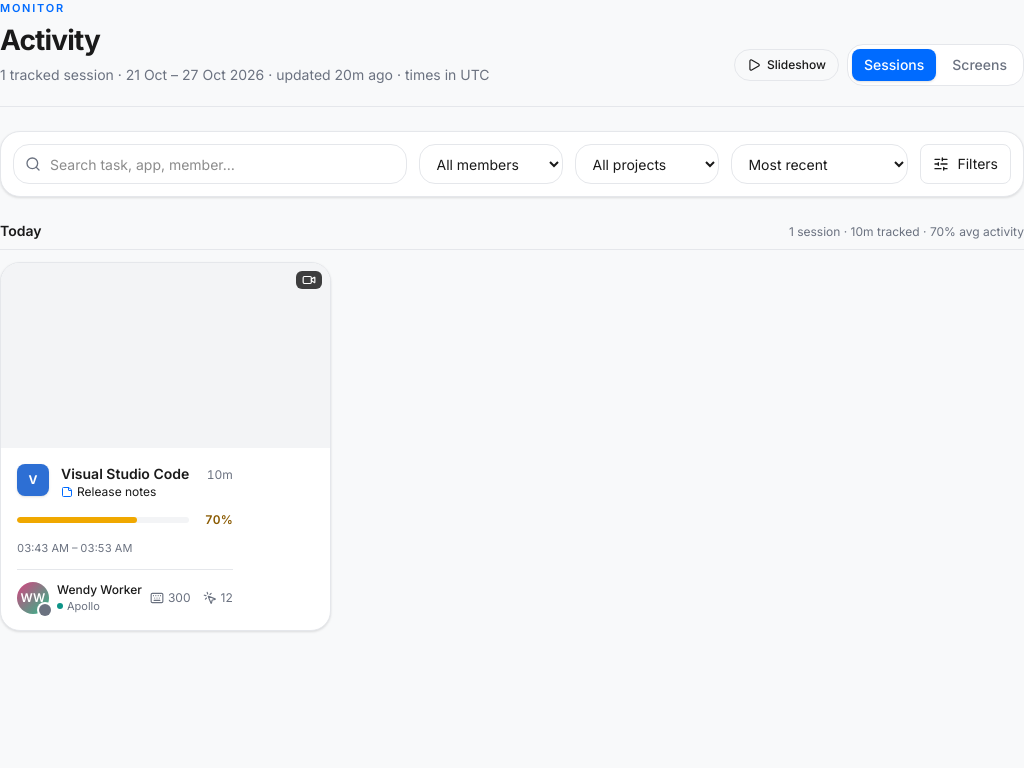
Test case: owners and managers (Tracker.Activities.Delete) › delete a block with its captures, giving the reason the record keeps
Click the button with aria-label "Open session: Wendy Worker, Release notes, 03:43 AM – 03:53": (33, 480) [1,448,330,630]
(page scrolled)
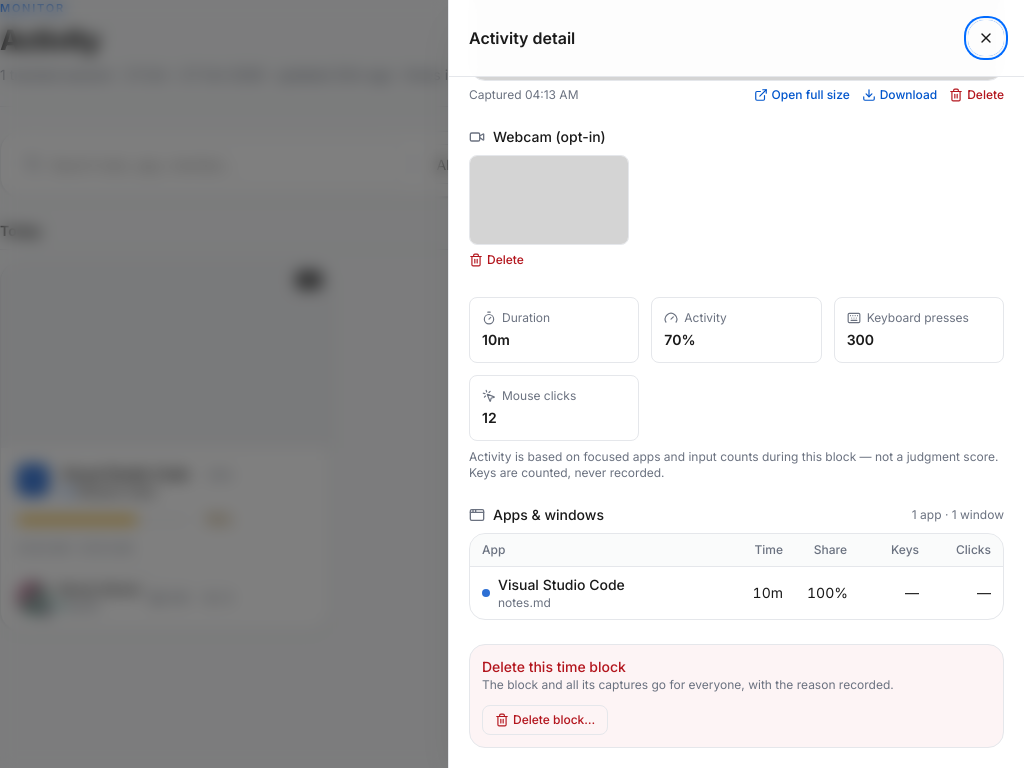
Click the button "Delete block…": (545, 720) [482,705,608,735]
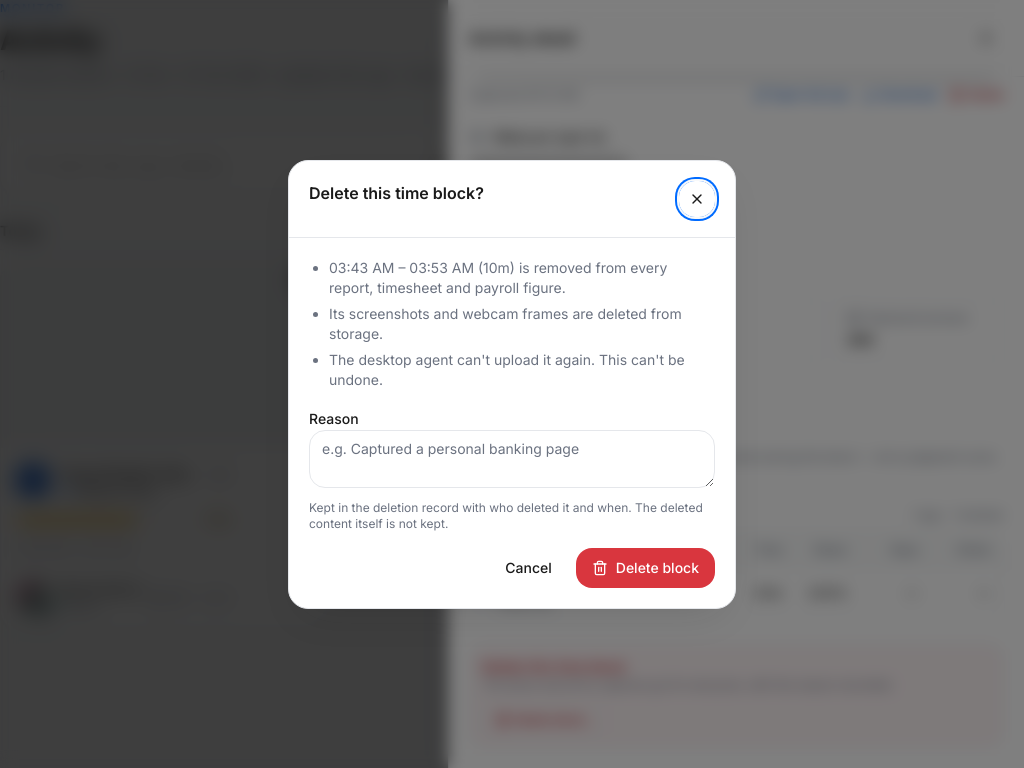
Expected: the dialog "Delete this time block?" shows "removed from every report, timesheet and payroll figure", [329,258,667,296]
Click the button "Delete block": (645, 568) [576,548,715,588]
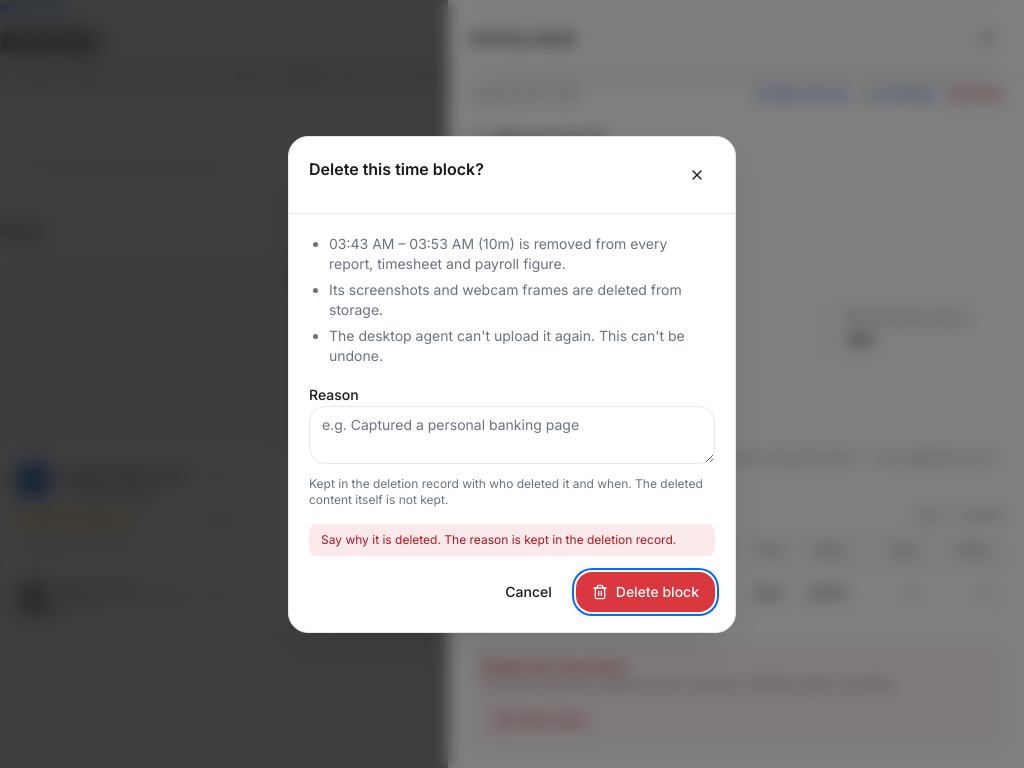
Expected: the message shows "Say why it is deleted", [321,532,676,546]
In the text box labelled "Reason": (512, 434) [309,406,715,464], type "Personal banking page"
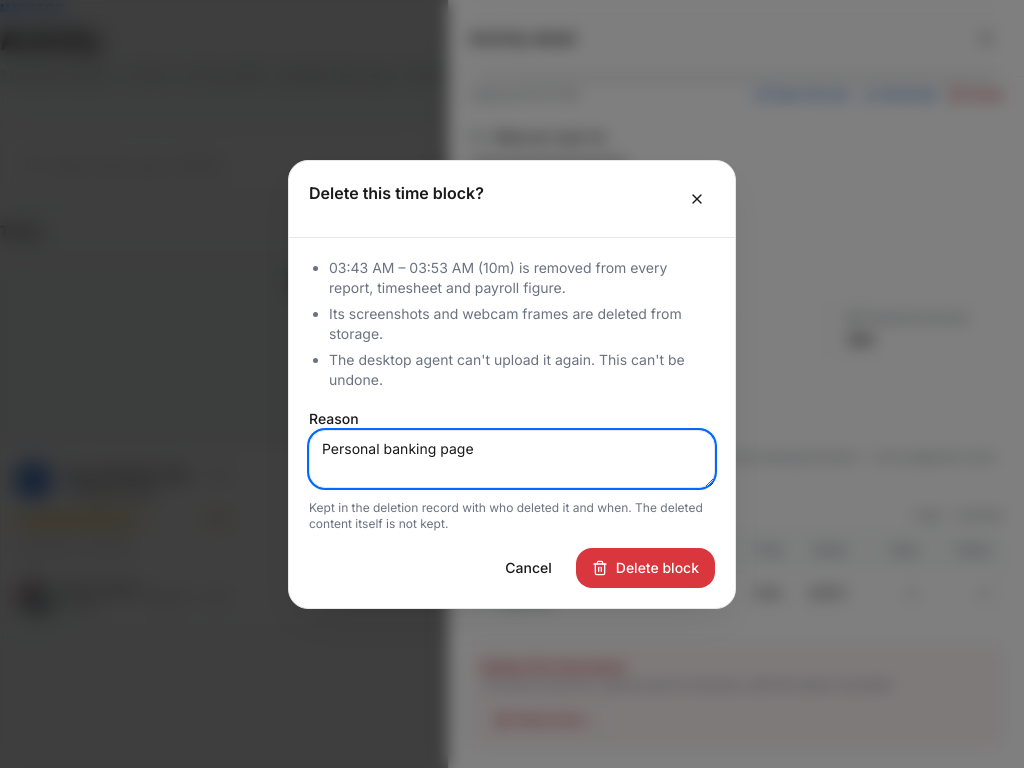
Click the button "Delete block": (645, 568) [576,548,715,588]
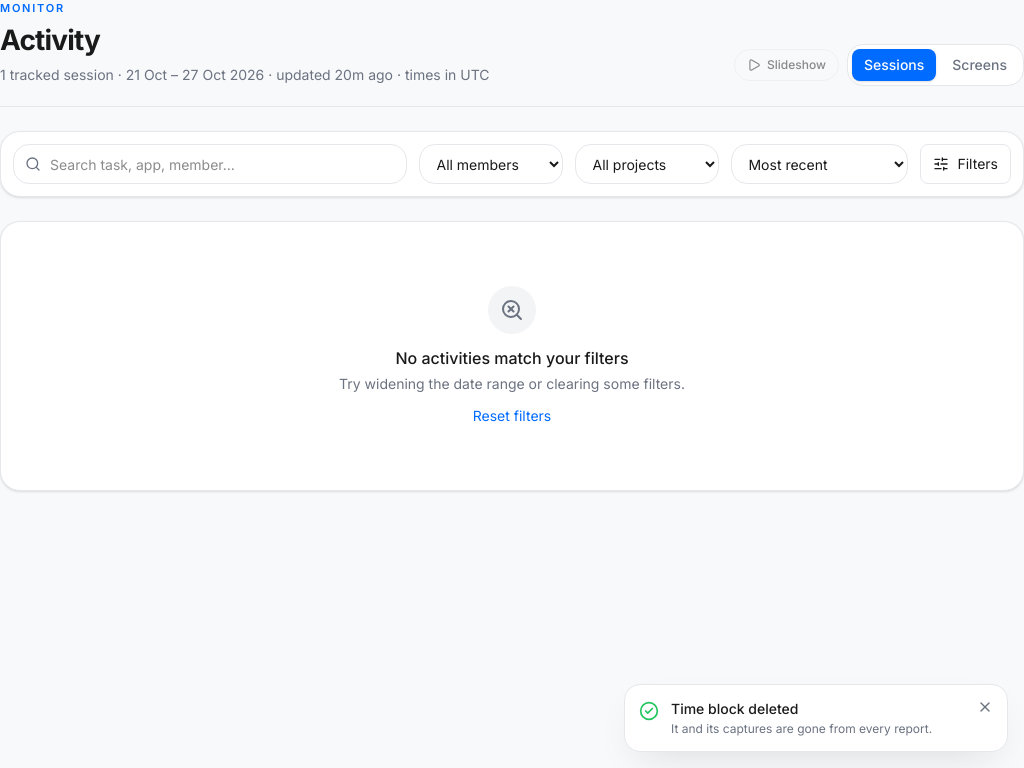
Expected: the heading "Activity detail" is gone
Expected: the text "Time block deleted" is shown, [671,700,798,717]
